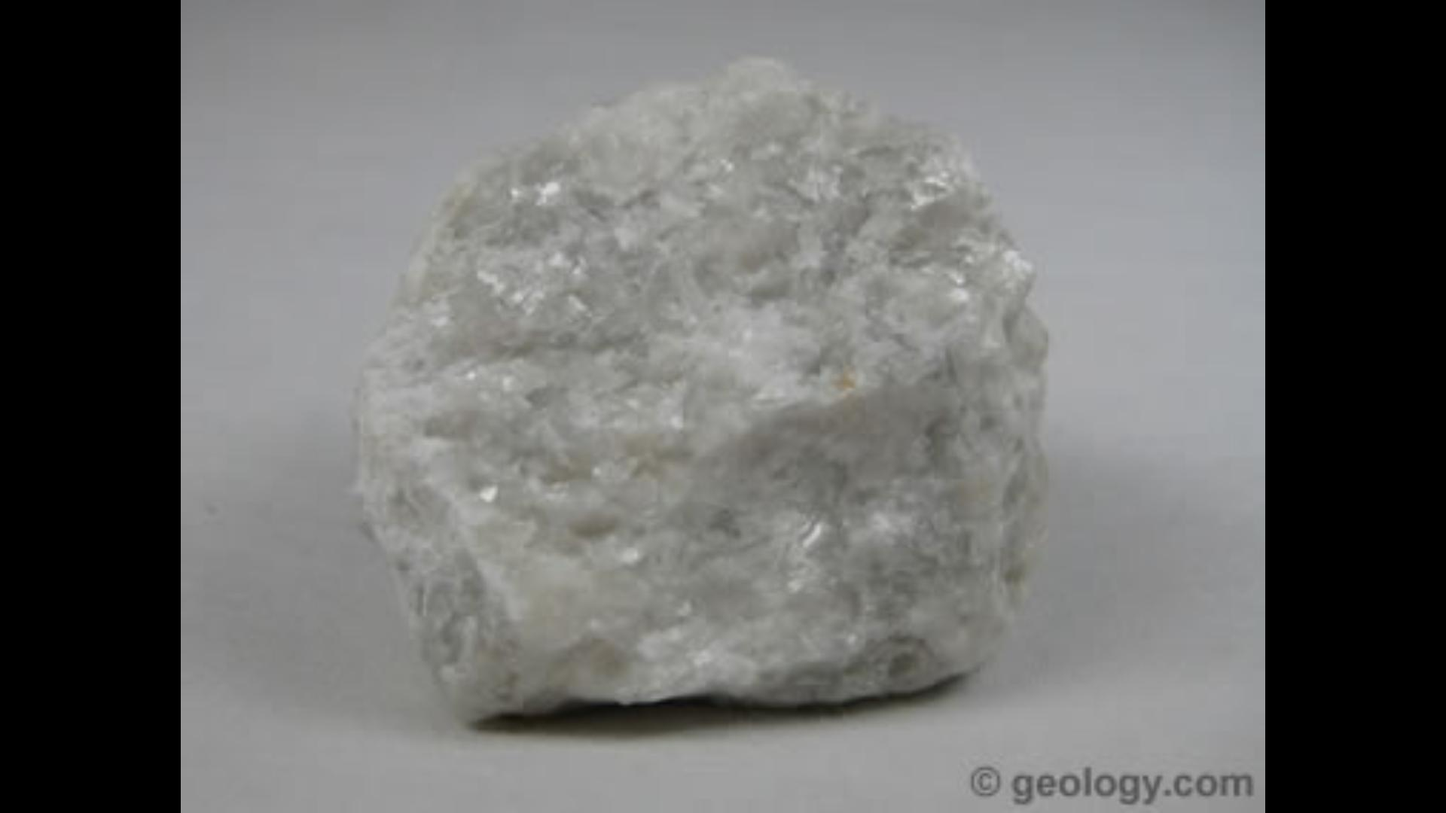rock: (361, 63, 1043, 716)
